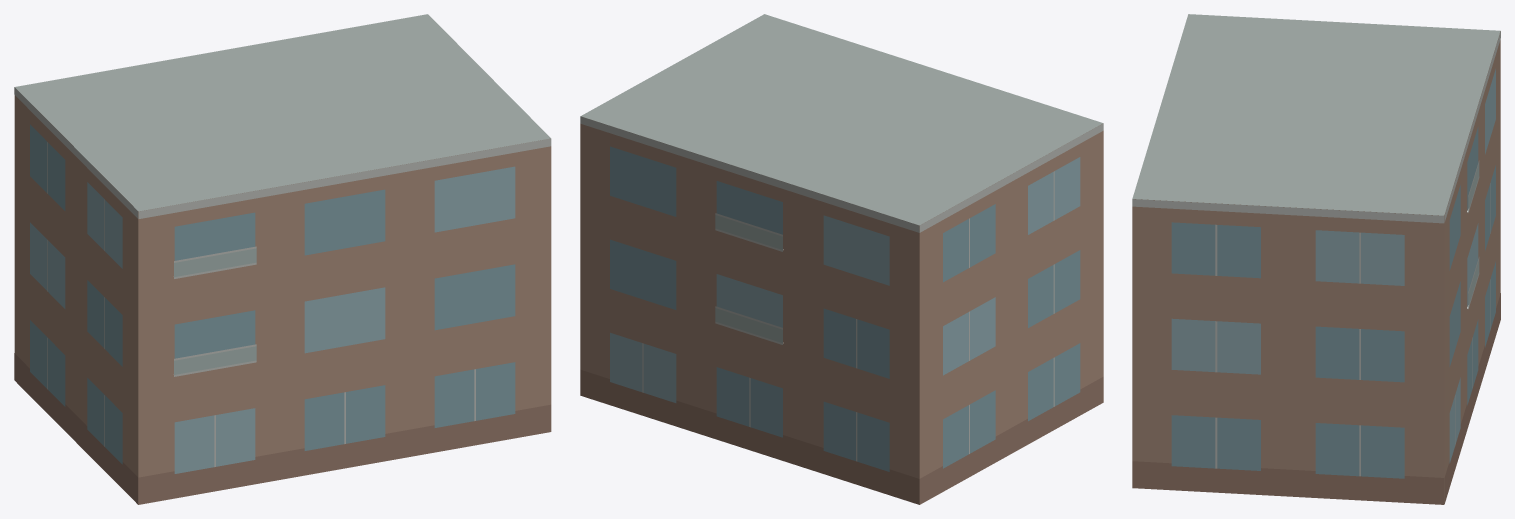
The model's file is survey-upis-32798820.glb.
3 views of the same model, side by side, from view 1: azimuth 30°, elevation 25°; view 2: azimuth 150°, elevation 25°; view 3: azimuth 270°, elevation 25° (orthographic). The views are drawn at different scales.
Parts seen in each view (by area): view 1: survey-upis-32798820.tmp; view 2: survey-upis-32798820.tmp; view 3: survey-upis-32798820.tmp.
Part boxes in pixels (bbox=[...]): survey-upis-32798820.tmp: bbox=[14, 14, 551, 504]; survey-upis-32798820.tmp: bbox=[580, 14, 1103, 504]; survey-upis-32798820.tmp: bbox=[1132, 14, 1500, 504].
Size of the model in its own units: 13.7 by 9.15 by 10.58.
